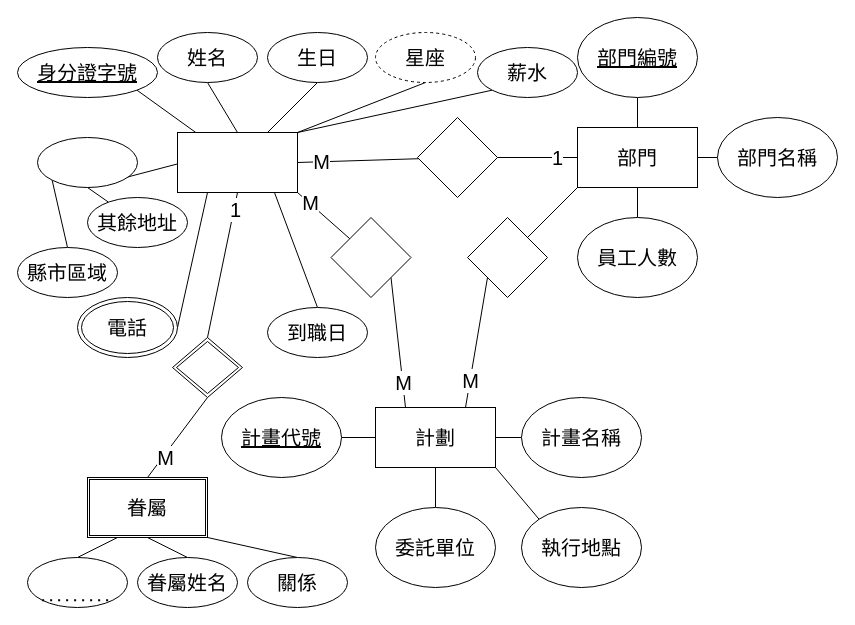
This 855x625 diagram has some shape labels left out. Here are the shapes that lost their labels. From the top down, the centre of each, then its label:
At (x=87, y=162): "地址".
At (x=237, y=162): "員工".
At (x=457, y=157): "工作於".
At (x=370, y=257): "參與".
At (x=507, y=257): "控制".
At (x=207, y=367): "依親".
At (x=77, y=582): "眷屬編號".
